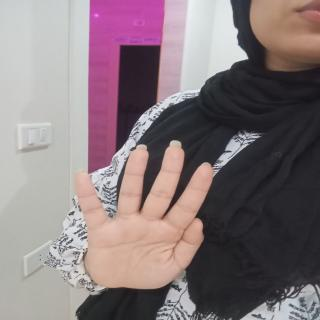SHEEN: (62, 139, 224, 292)
